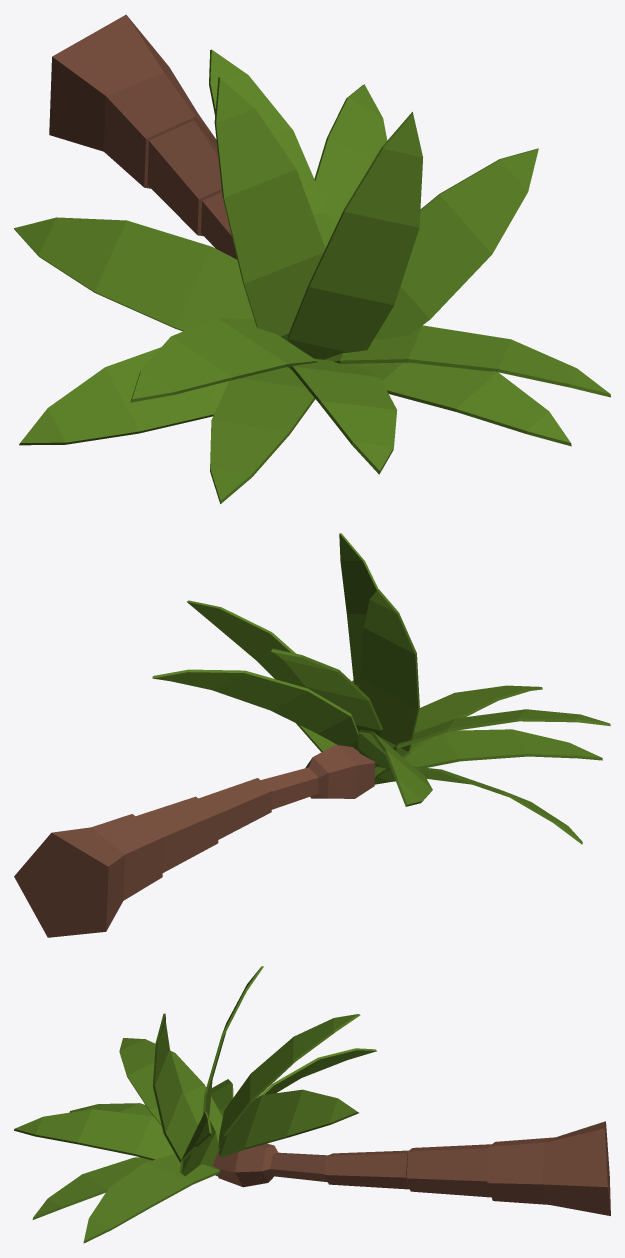
File: palm tree fallen.fbx
3 views of the same model, one above another, from view 1: azimuth 30°, elevation 25°; view 2: azimuth 150°, elevation 25°; view 3: azimuth 270°, elevation 25° (orthographic). The views are drawn at different scales.
Visible parts, largest first — view 1: Cylinder.007, Plane.091, Plane.089, Plane.086, Plane.092, Plane.084, Plane.085, Plane.093, Plane.087, Plane.094, Plane.090, Plane.088 (+1 smaller); view 2: Cylinder.007, Plane.089, Plane.088, Plane.093, Plane.095, Plane.092, Plane.091, Plane.090, Plane.086, Plane.085, Plane.084; view 3: Cylinder.007, Plane.090, Plane.088, Plane.094, Plane.085, Plane.095, Plane.091, Plane.087, Plane.092, Plane.086, Plane.089, Plane.093 (+1 smaller).
Boxes of the visible parts, x1=… form: Cylinder.007: x1=49, y1=14, x2=237, y2=259; Plane.091: x1=287, y1=112, x2=423, y2=359; Plane.089: x1=214, y1=77, x2=325, y2=341; Plane.086: x1=14, y1=217, x2=253, y2=331; Plane.092: x1=373, y1=148, x2=538, y2=340; Plane.084: x1=19, y1=347, x2=228, y2=445; Plane.085: x1=130, y1=317, x2=316, y2=402; Plane.093: x1=210, y1=367, x2=315, y2=503; Plane.087: x1=350, y1=362, x2=571, y2=446; Plane.094: x1=324, y1=325, x2=610, y2=397; Plane.090: x1=288, y1=358, x2=397, y2=474; Plane.088: x1=314, y1=84, x2=387, y2=232; Cylinder.007: x1=14, y1=745, x2=375, y2=937; Plane.089: x1=359, y1=589, x2=419, y2=772; Plane.088: x1=152, y1=669, x2=358, y2=751; Plane.093: x1=375, y1=729, x2=602, y2=777; Plane.095: x1=271, y1=648, x2=382, y2=735; Plane.092: x1=187, y1=600, x2=306, y2=687; Plane.091: x1=339, y1=533, x2=378, y2=687; Plane.090: x1=382, y1=685, x2=542, y2=770; Plane.086: x1=358, y1=729, x2=432, y2=806; Plane.085: x1=375, y1=709, x2=610, y2=767; Plane.084: x1=374, y1=766, x2=582, y2=844; Cylinder.007: x1=213, y1=1121, x2=610, y2=1215; Plane.090: x1=14, y1=1109, x2=174, y2=1160; Plane.088: x1=219, y1=1089, x2=358, y2=1157; Plane.094: x1=83, y1=1154, x2=220, y2=1243; Plane.085: x1=119, y1=1038, x2=222, y2=1143; Plane.095: x1=218, y1=1014, x2=360, y2=1152; Plane.091: x1=152, y1=1013, x2=197, y2=1162; Plane.087: x1=32, y1=1157, x2=217, y2=1219; Plane.092: x1=180, y1=1111, x2=218, y2=1176; Plane.086: x1=258, y1=1048, x2=376, y2=1096; Plane.089: x1=203, y1=966, x2=263, y2=1117; Plane.093: x1=69, y1=1103, x2=153, y2=1116.
Bounding box in the file's own units: 796 × 437 × 1195.
